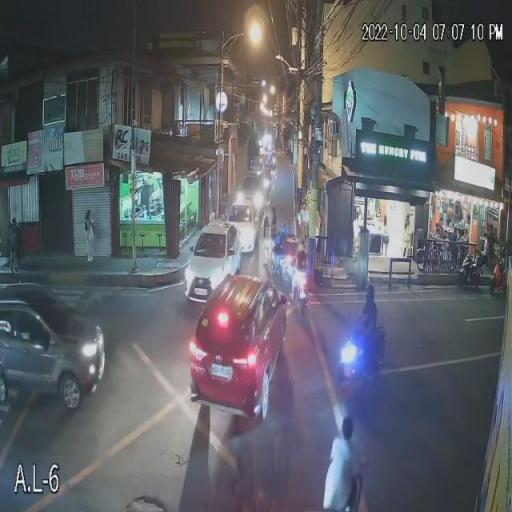helmet: (362, 286, 376, 304), (297, 238, 307, 254)
motorcycle: (335, 330, 389, 384), (286, 266, 314, 311)
rider: (355, 285, 384, 345), (294, 237, 313, 285)
